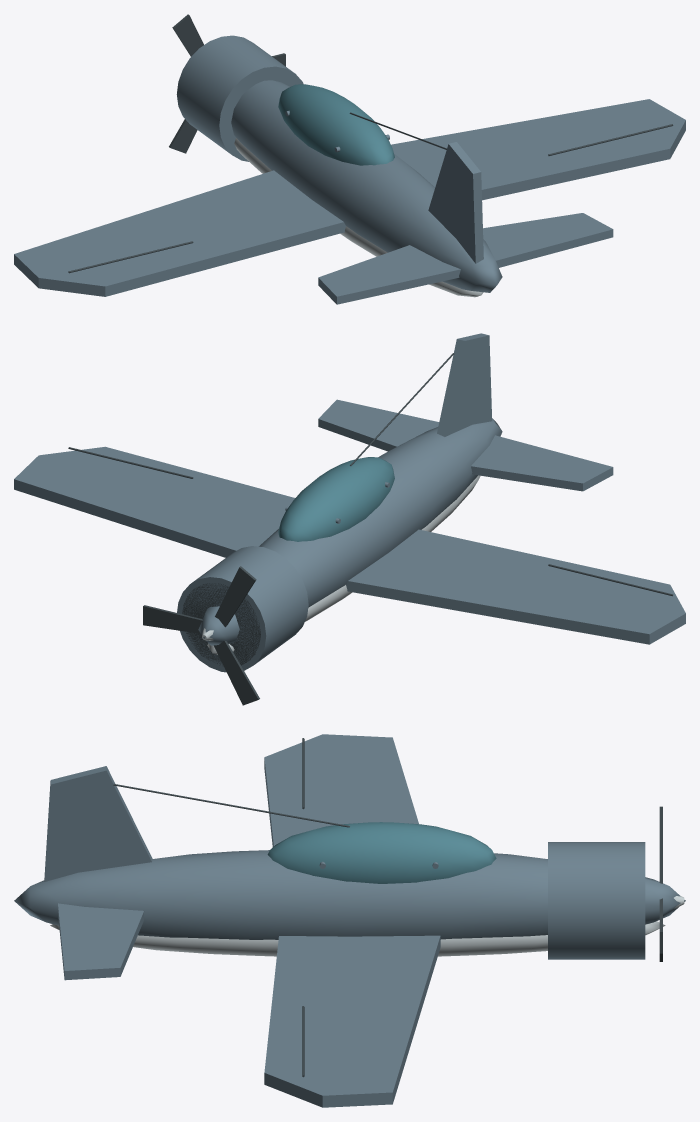
Rendered from generic-ww2-fighter.glb.
The picture shows the model from 3 angles, top to bottom: view 1: azimuth 30°, elevation 25°; view 2: azimuth 150°, elevation 25°; view 3: azimuth 270°, elevation 25°; orthographic projection. The views are drawn at different scales.
Parts seen in each view (by area): view 1: ww2-fighter_StraightWing, ww2-fighter_PistonFuselage, ww2-fighter_StraightWing.001, ww2-fighter_RadialEngine, ww2-fighter_Canopy, ww2-fighter_HorizontalTail, ww2-fighter_HorizontalTail.001, ww2-fighter_SingleVerticalTail, ww2-fighter_Propeller, ww2-fighter_PaleUnderside; view 2: ww2-fighter_StraightWing, ww2-fighter_StraightWing.001, ww2-fighter_PistonFuselage, ww2-fighter_RadialEngine, ww2-fighter_Canopy, ww2-fighter_HorizontalTail, ww2-fighter_SingleVerticalTail, ww2-fighter_HorizontalTail.001, ww2-fighter_Propeller, ww2-fighter_EngineOpening, ww2-fighter_PaleUnderside; view 3: ww2-fighter_PistonFuselage, ww2-fighter_StraightWing.001, ww2-fighter_StraightWing, ww2-fighter_RadialEngine, ww2-fighter_Canopy, ww2-fighter_SingleVerticalTail, ww2-fighter_HorizontalTail.001, ww2-fighter_PaleUnderside, ww2-fighter_RadioAerial, ww2-fighter_Propeller.
Boxes of the visible parts, x1,y1,x2,y2 form: ww2-fighter_StraightWing: (14, 170, 345, 296); ww2-fighter_PistonFuselage: (231, 80, 502, 292); ww2-fighter_StraightWing.001: (391, 99, 685, 200); ww2-fighter_RadialEngine: (176, 35, 303, 161); ww2-fighter_Canopy: (278, 84, 394, 165); ww2-fighter_HorizontalTail: (318, 245, 460, 304); ww2-fighter_HorizontalTail.001: (483, 213, 613, 267); ww2-fighter_SingleVerticalTail: (428, 142, 483, 263); ww2-fighter_Propeller: (169, 14, 285, 153); ww2-fighter_PaleUnderside: (234, 138, 483, 297); ww2-fighter_StraightWing: (346, 529, 685, 644); ww2-fighter_StraightWing.001: (14, 446, 294, 557); ww2-fighter_PistonFuselage: (198, 418, 502, 645); ww2-fighter_RadialEngine: (177, 546, 308, 672); ww2-fighter_Canopy: (278, 457, 394, 541); ww2-fighter_HorizontalTail: (471, 435, 613, 491); ww2-fighter_SingleVerticalTail: (437, 333, 492, 436); ww2-fighter_HorizontalTail.001: (318, 399, 439, 451); ww2-fighter_Propeller: (143, 566, 259, 705); ww2-fighter_EngineOpening: (182, 583, 260, 666); ww2-fighter_PaleUnderside: (207, 475, 480, 654); ww2-fighter_PistonFuselage: (14, 850, 685, 939); ww2-fighter_StraightWing.001: (264, 935, 440, 1107); ww2-fighter_StraightWing: (264, 734, 418, 846); ww2-fighter_RadialEngine: (548, 842, 645, 959); ww2-fighter_Canopy: (267, 822, 496, 883); ww2-fighter_SingleVerticalTail: (44, 766, 152, 881); ww2-fighter_HorizontalTail.001: (58, 903, 144, 980); ww2-fighter_PaleUnderside: (50, 921, 665, 956); ww2-fighter_RadioAerial: (113, 784, 349, 827); ww2-fighter_Propeller: (659, 806, 662, 961).
Size of the model in its own units: 11 by 2.95 by 8.64.
